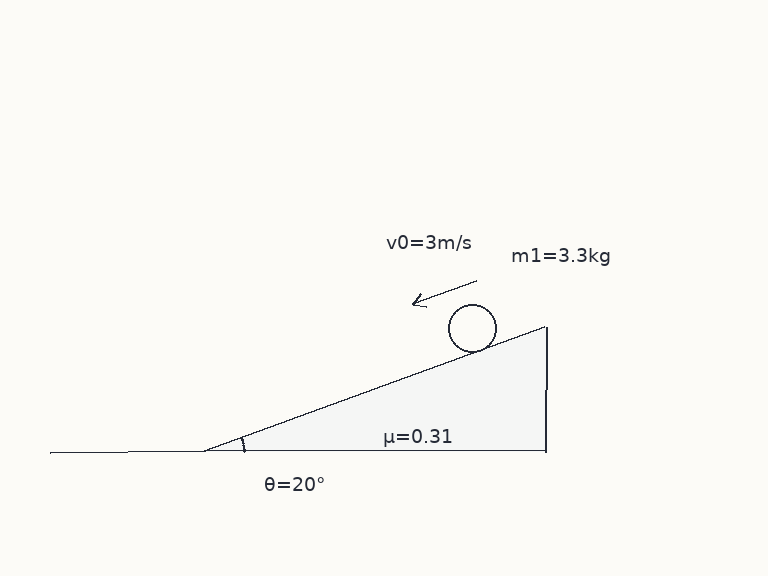ball: (446, 302, 498, 354)
ramp: (202, 325, 547, 453)
